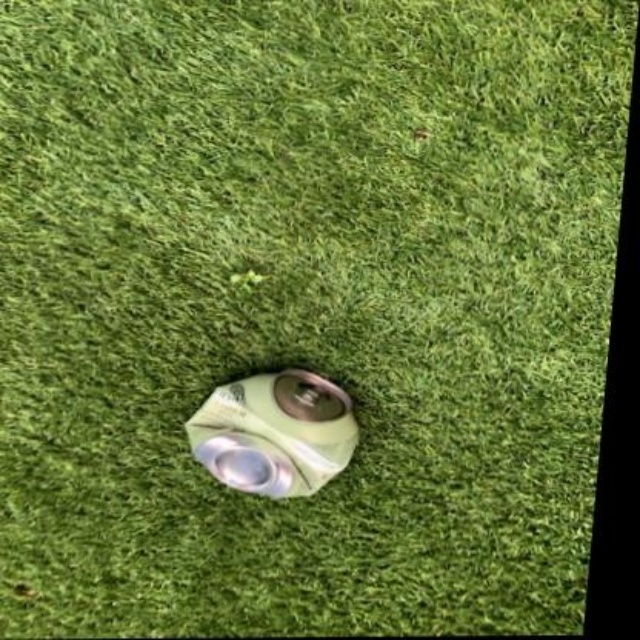trash: (186, 369, 357, 497)
